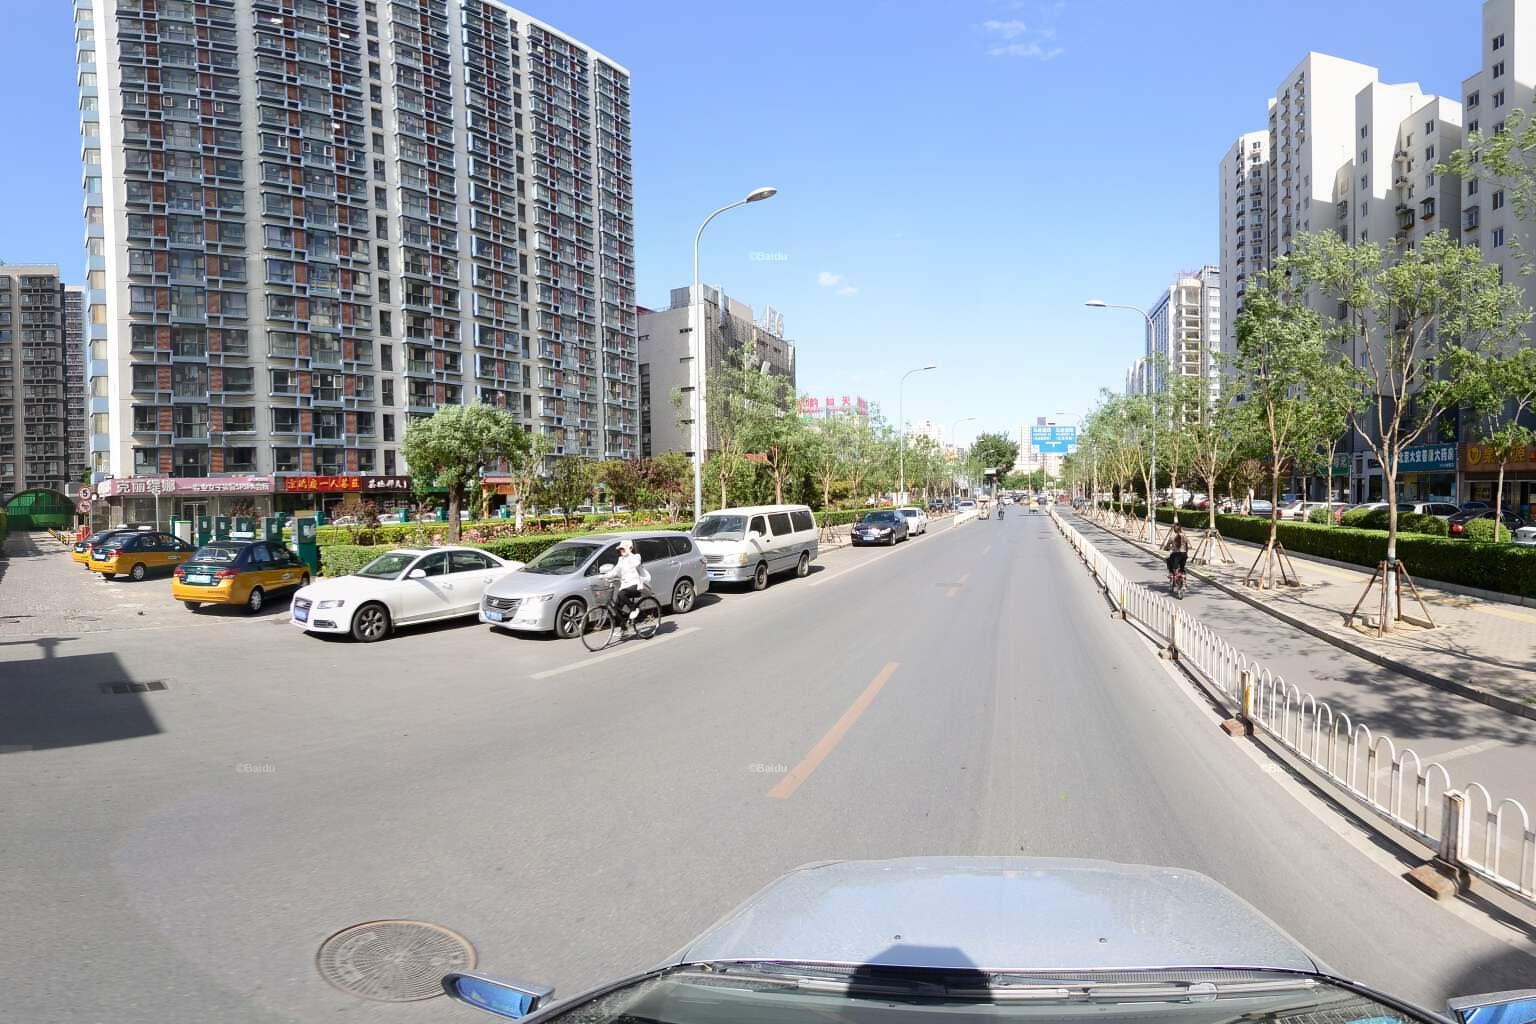car: (311, 539, 562, 661), (672, 506, 829, 597)
